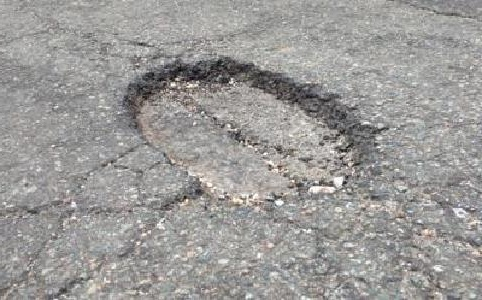pothole: (120, 52, 384, 208)
